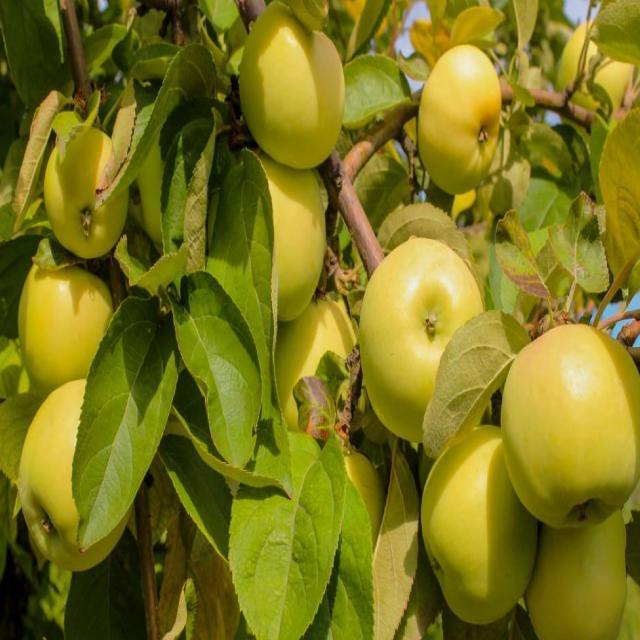Green Apple: (504, 326, 640, 513), (426, 423, 538, 617), (373, 238, 483, 426), (250, 1, 350, 166), (20, 378, 107, 563), (532, 497, 640, 640), (247, 148, 329, 303), (23, 256, 115, 382), (282, 303, 369, 435), (423, 40, 500, 187), (49, 130, 127, 261), (562, 17, 625, 131), (331, 441, 389, 546)
